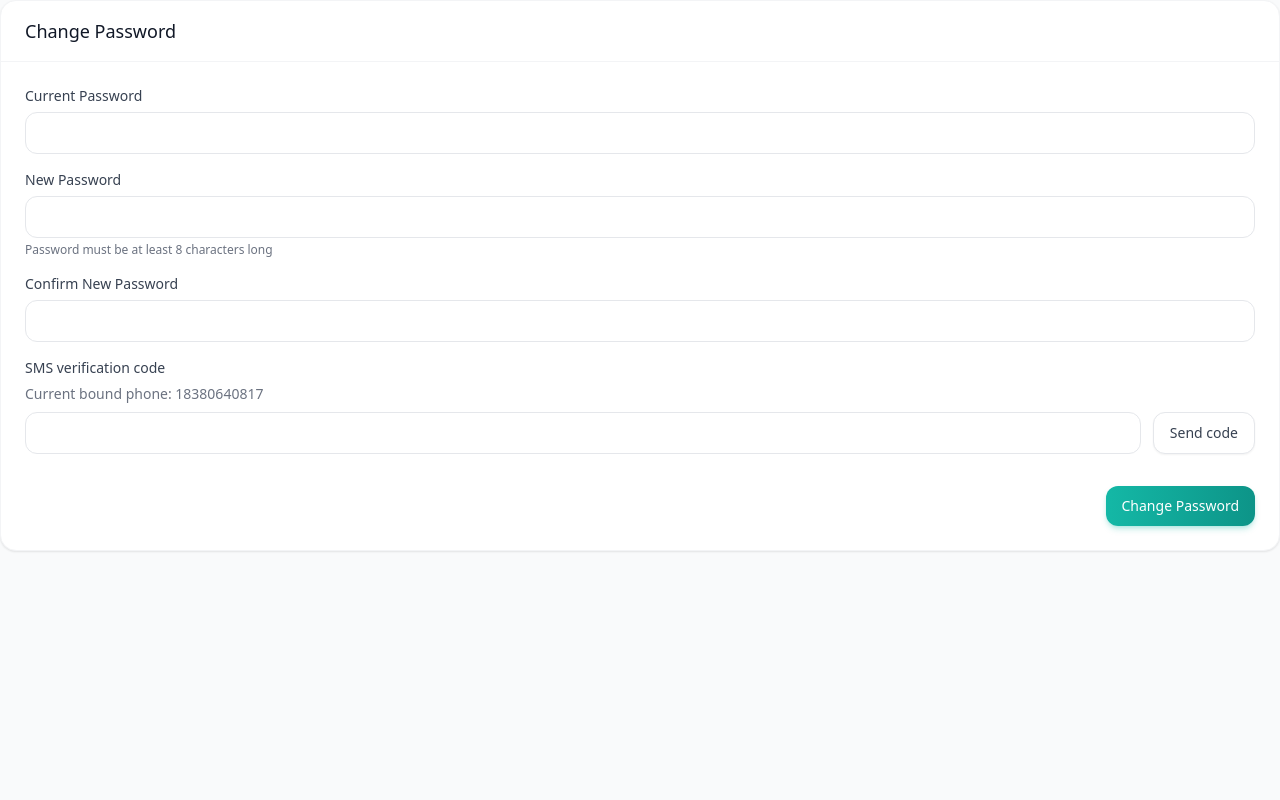
ProfilePasswordForm › uses server cooldown countdown when phone code is rate limited
This screenshot has width=1280, height=800.
Click the button "Send code": (1204, 433) [1153,412,1255,454]
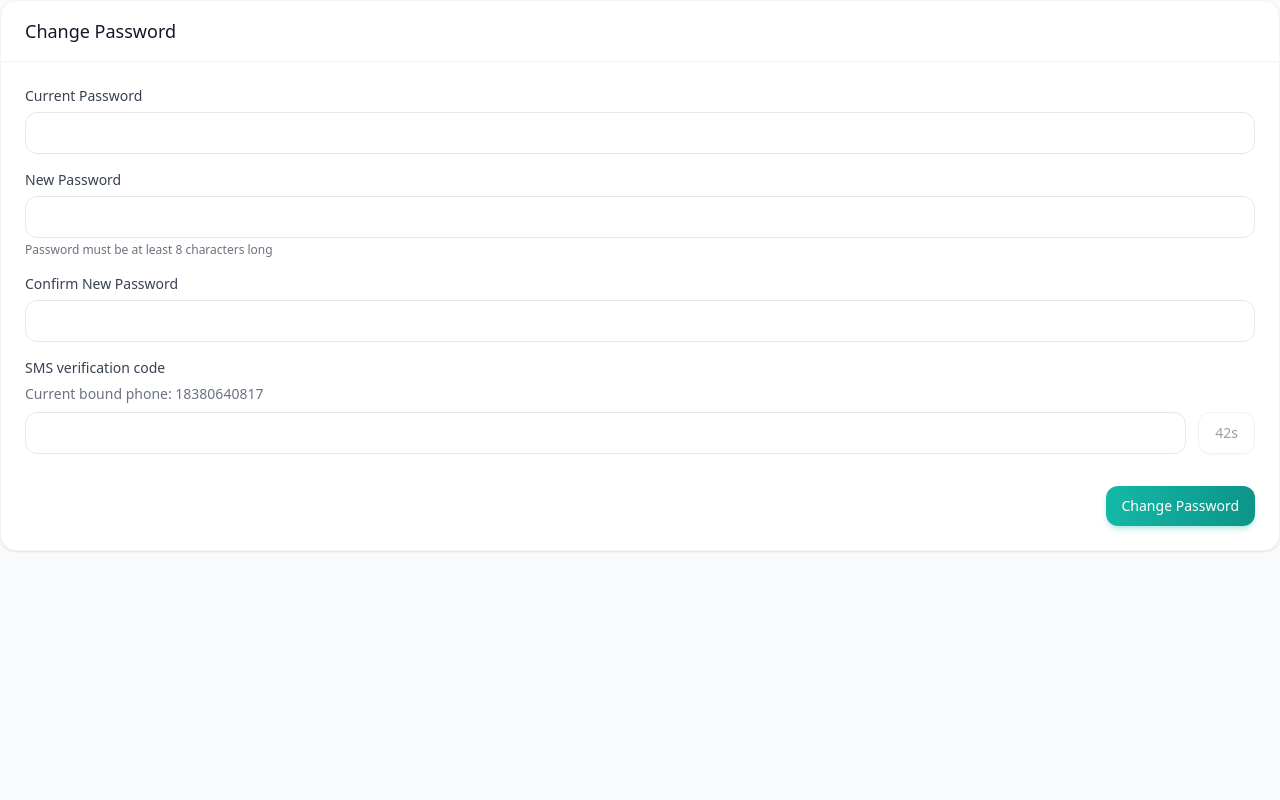
Expected: the button "42s" is shown, [1198,412,1255,454]
